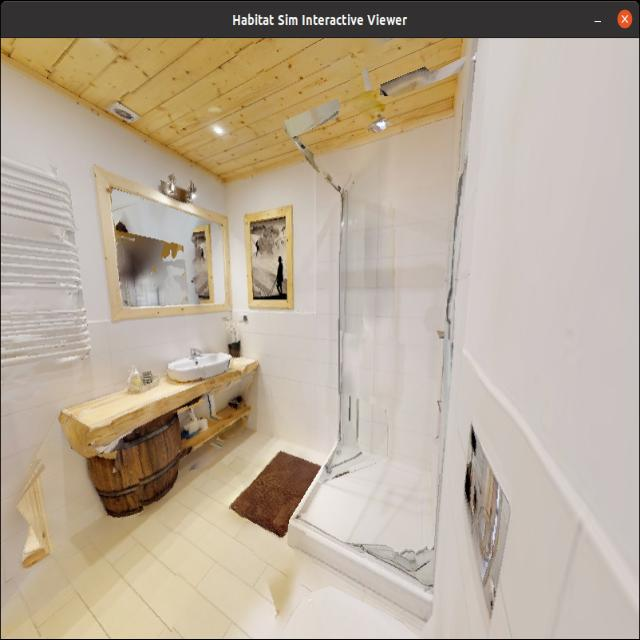shower: (306, 109, 477, 594)
sink: (165, 343, 231, 396)
